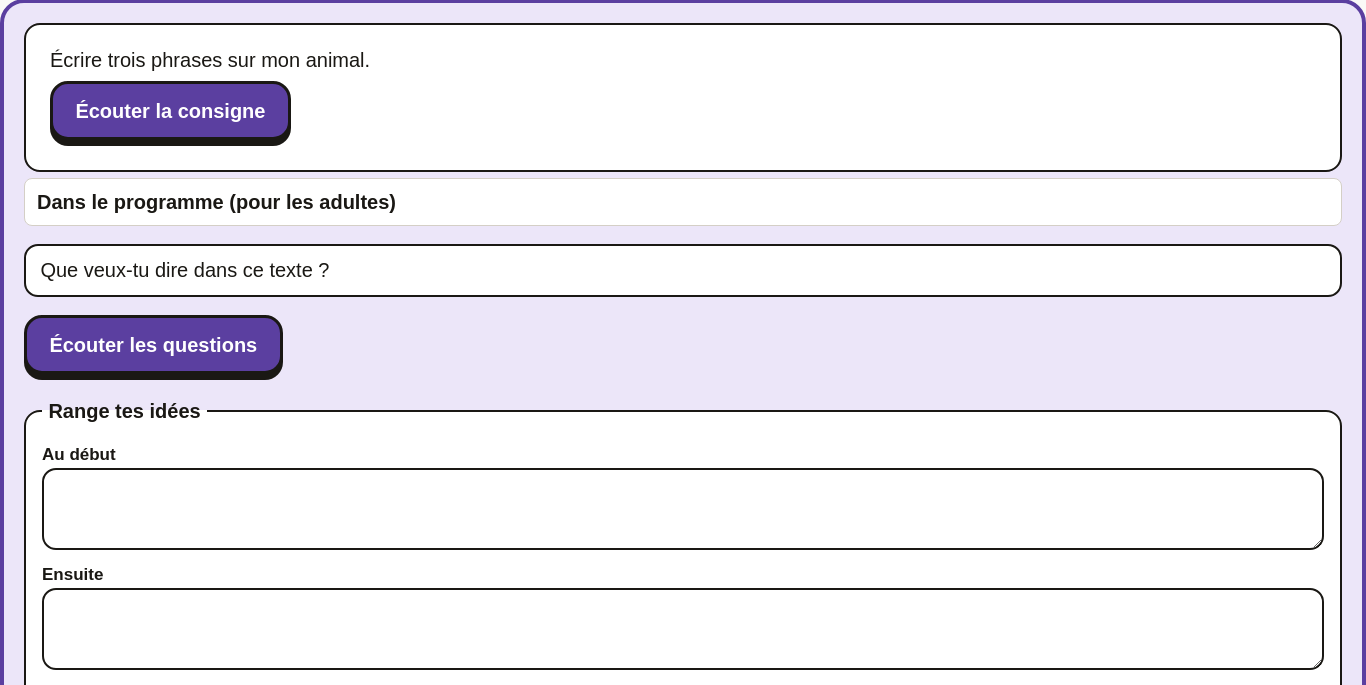
Test case: EcranEleve : chaque aide du catalogue a un effet visible (amélioration 2) › organisateur : trois cases pour ranger ses idées, rappelées pendant l’écriture
This screenshot has width=1366, height=685.
Type "un chat roux" into the text box labelled "Au début" at (683, 509), box [42,468,1324,550]
(page scrolled)
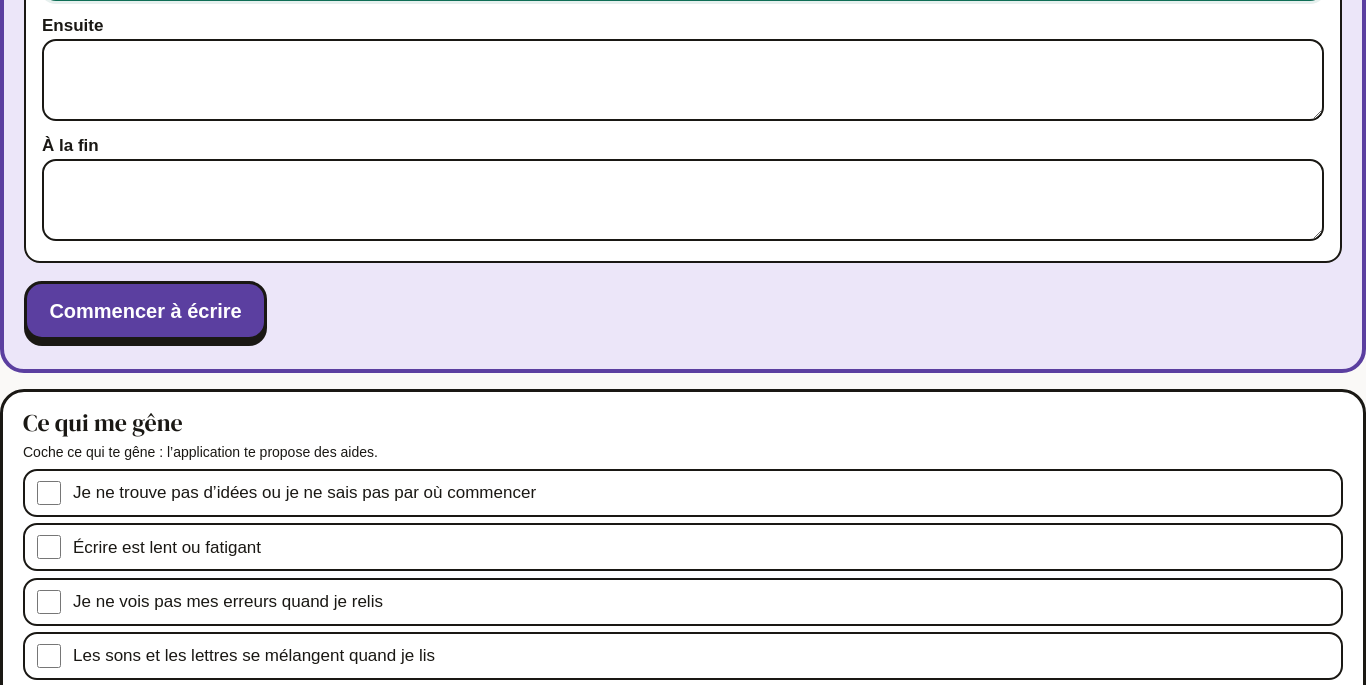
Expected: the text box labelled "Ensuite" is shown, [42,39,1324,121]
Expected: the text box labelled "À la fin" is shown, [42,159,1324,241]
Click the button "Commencer à écrire" at (146, 310), box [24,281,267,340]
(page scrolled)
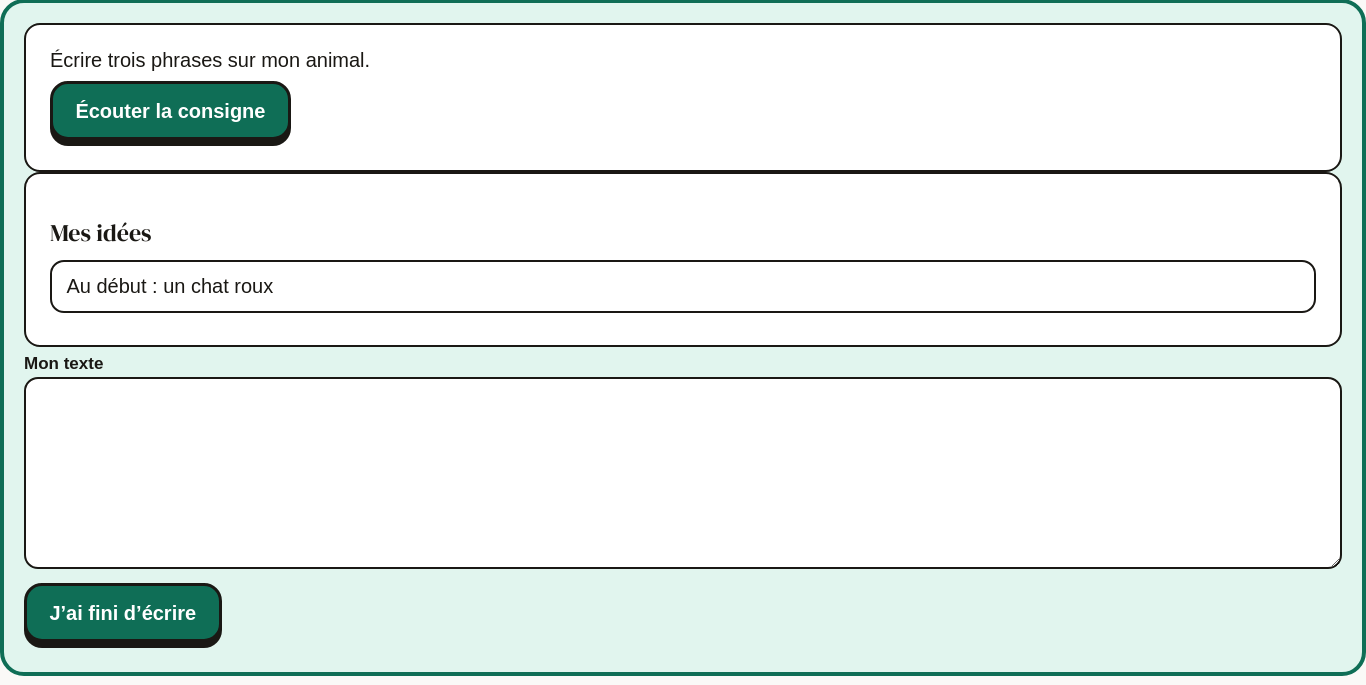
Expected: the element "Mes idées Au début : un chat roux" is shown, [24,172,1342,347]
